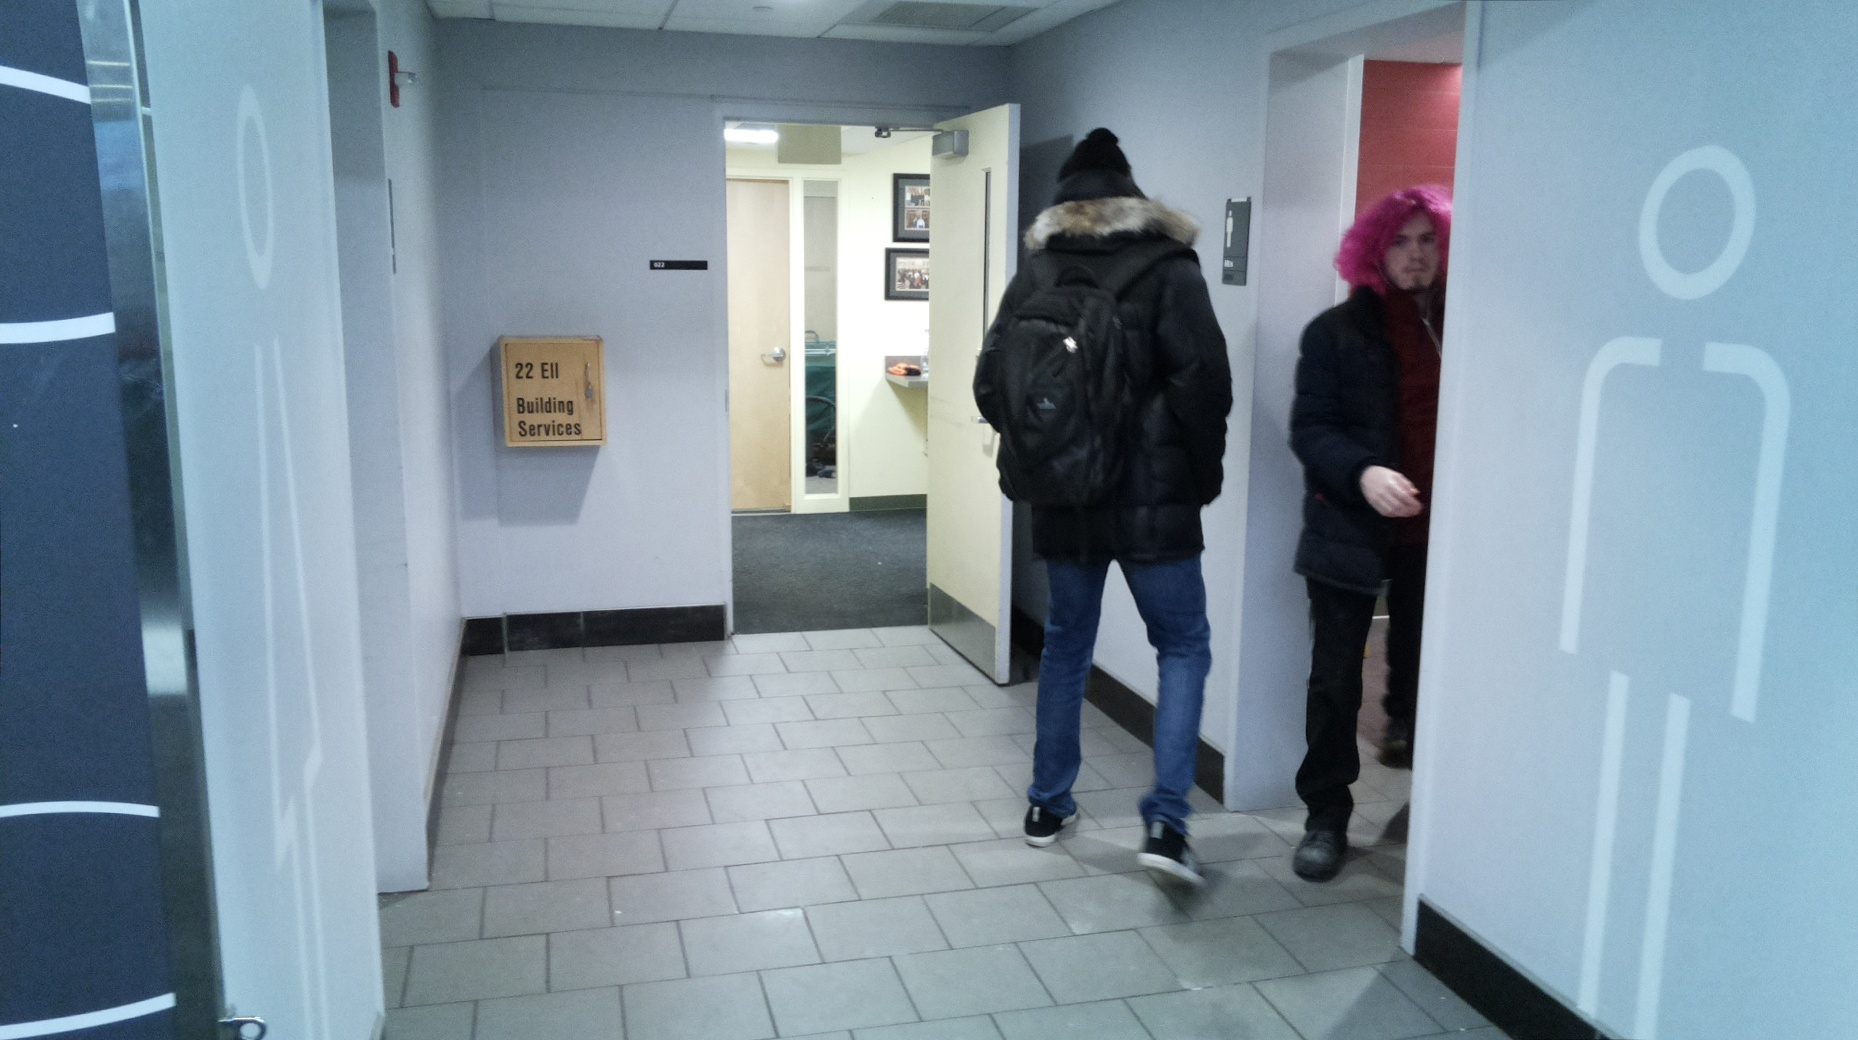bathroom sign: (1220, 195, 1254, 288)
